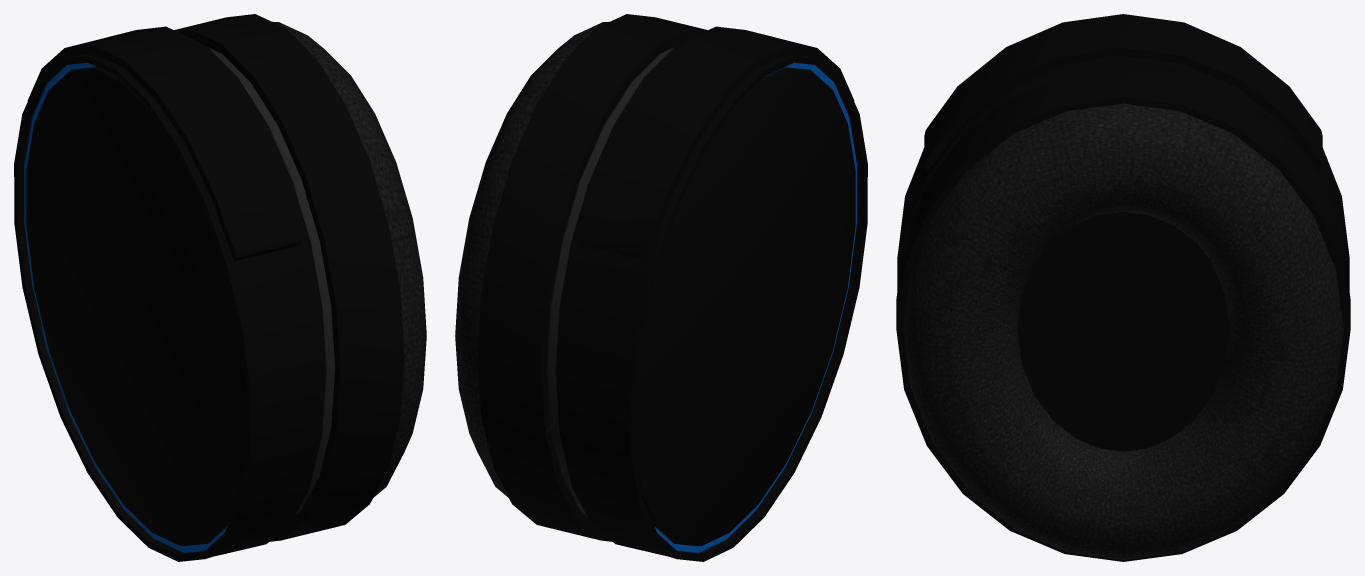
The model's file is left-ear.obj.
3 views of the same model, side by side, from view 1: azimuth 30°, elevation 25°; view 2: azimuth 150°, elevation 25°; view 3: azimuth 270°, elevation 25° (orthographic). The views are drawn at different scales.
Visible parts, largest first — view 1: left-ear; view 2: left-ear; view 3: left-ear.
Boxes of the visible parts, <box> form: left-ear: <box>14,14,426,561</box>; left-ear: <box>455,14,867,561</box>; left-ear: <box>896,14,1350,561</box>.
Bounding box in the file's own units: 0.0841 × 0.1854 × 0.1614.
1 material, 1 textured.
